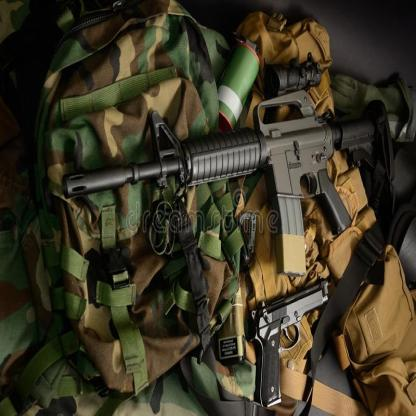Grenade: (216, 34, 262, 132)
Gun: (60, 53, 405, 277)
Pistol: (249, 278, 334, 409)
